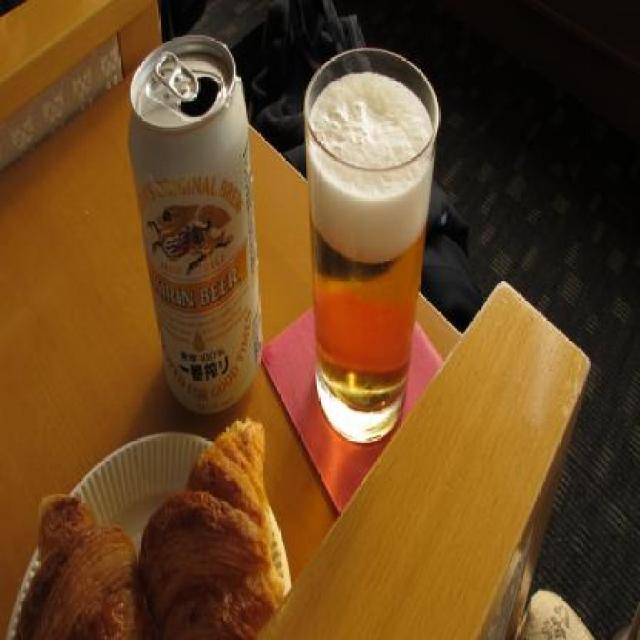Croissant: (138, 419, 284, 639), (26, 518, 134, 640)
